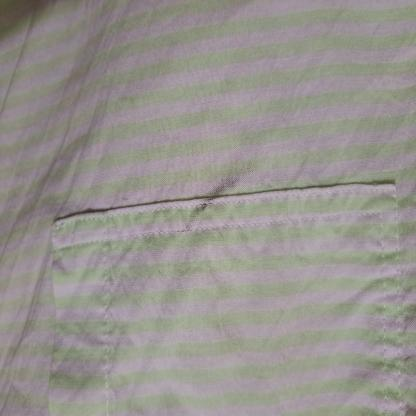spot: (182, 182, 210, 239)
